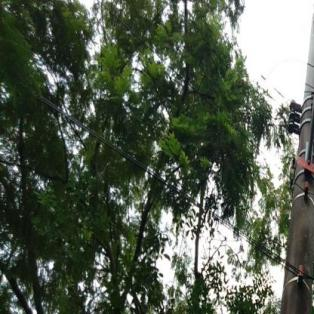Poste: (246, 1, 314, 314)
